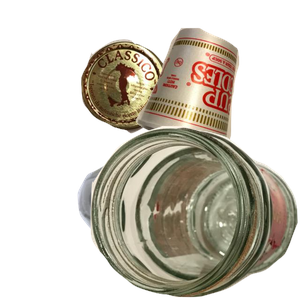glass: (90, 126, 300, 300)
metal: (78, 37, 243, 163)
plastic: (75, 154, 248, 300)
trash: (133, 25, 300, 167)
